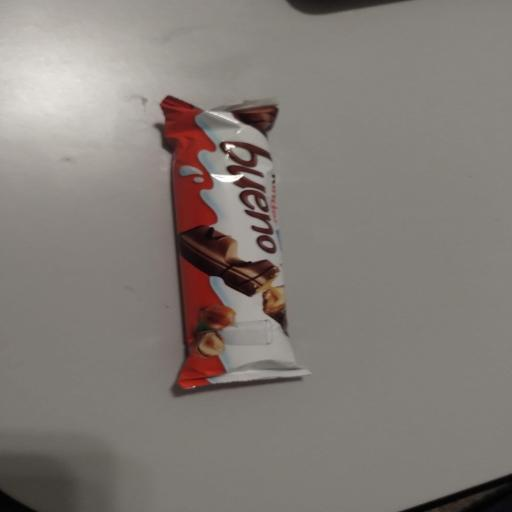chocolate: (162, 97, 309, 388)
